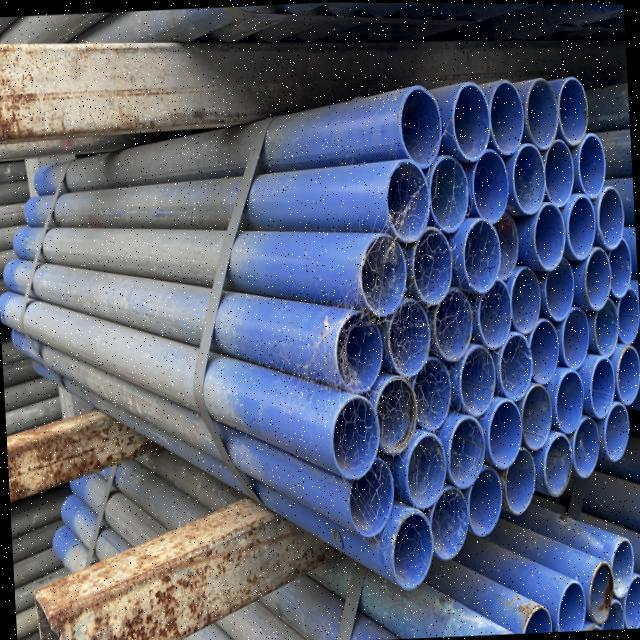pipe: (337, 309, 387, 395), (349, 453, 398, 537), (383, 298, 433, 379), (335, 397, 383, 481), (364, 233, 411, 316), (434, 286, 480, 368), (401, 86, 444, 171), (413, 347, 453, 437), (406, 431, 452, 509), (378, 376, 422, 457), (388, 159, 433, 238), (453, 80, 495, 164), (428, 480, 471, 561), (468, 448, 506, 537), (391, 508, 434, 586), (469, 147, 511, 226), (456, 346, 501, 418), (500, 433, 539, 516), (413, 228, 455, 305), (487, 81, 525, 165), (462, 219, 504, 295), (486, 400, 528, 474), (432, 155, 472, 232), (452, 414, 490, 492), (474, 278, 514, 352), (514, 135, 550, 214), (520, 381, 557, 455), (498, 333, 536, 405), (546, 130, 577, 216), (545, 243, 576, 326), (572, 411, 608, 481), (511, 264, 545, 337), (535, 202, 570, 271), (529, 316, 559, 395), (540, 430, 574, 497), (583, 237, 612, 311), (559, 76, 590, 145), (531, 82, 563, 148), (560, 304, 592, 369), (558, 371, 589, 437), (496, 209, 522, 284), (578, 134, 607, 198), (590, 355, 618, 421), (572, 197, 600, 259), (605, 402, 633, 463), (593, 294, 620, 357), (587, 563, 614, 623), (598, 183, 623, 246), (612, 538, 636, 600), (619, 338, 640, 405), (611, 236, 634, 296), (561, 586, 585, 629), (623, 289, 640, 340), (626, 583, 640, 626)
